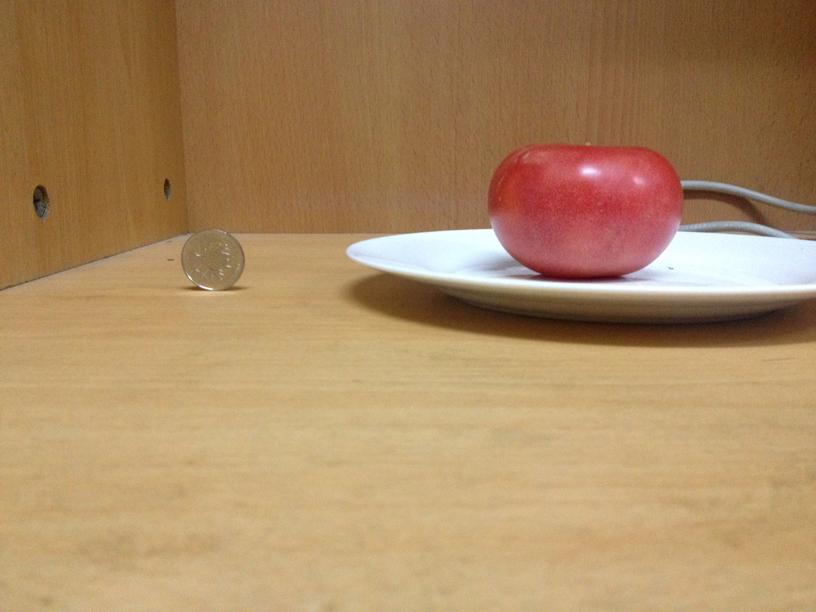coin: (178, 225, 247, 290)
tomato: (483, 139, 686, 279)
